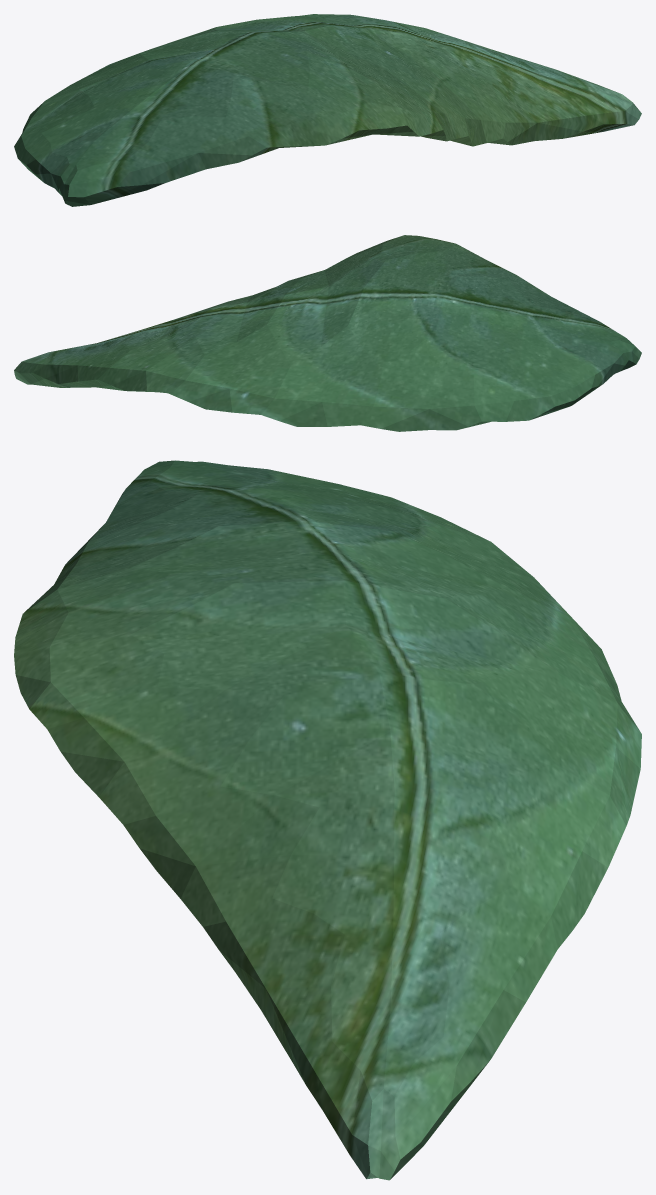
File: leaf3.fbx
3 renders of one model, top to bottom at view 1: azimuth 30°, elevation 25°; view 2: azimuth 150°, elevation 25°; view 3: azimuth 270°, elevation 25°, orthographic. The views are drawn at different scales.
Visible parts, largest first — view 1: Plane; view 2: Plane; view 3: Plane.
Part boxes in pixels (x1=…): Plane: x1=14, y1=14, x2=641, y2=206; Plane: x1=14, y1=235, x2=641, y2=431; Plane: x1=14, y1=460, x2=641, y2=1180.
Size of the model in its own units: 632 by 183 by 335.
Materials: 1 (1 with a texture image).
